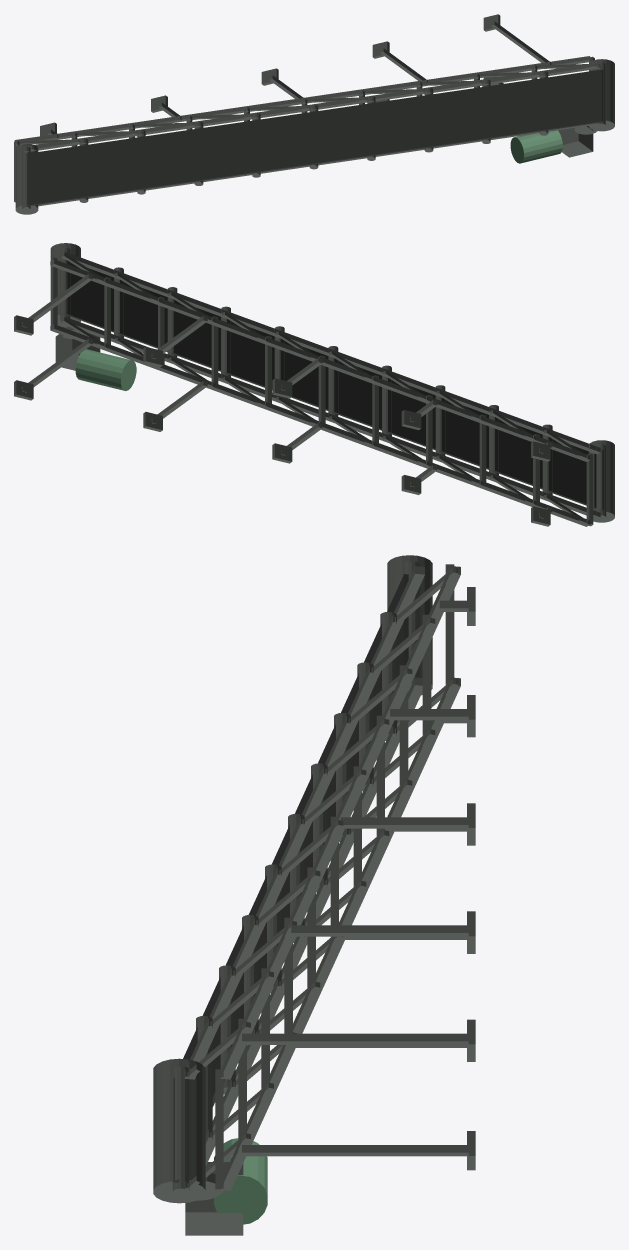
File: conveyor.glb
The picture shows the model from 3 angles, top to bottom: view 1: azimuth 30°, elevation 25°; view 2: azimuth 150°, elevation 25°; view 3: azimuth 270°, elevation 25°; orthographic projection. The views are drawn at different scales.
Visible parts, largest first — view 1: conveyor_belt, side_top_0.72, side_bottom_0.72, motor_body, side_top_-0.72, drive_drum, reducer, tail_drum, leg_4_0.72, carrier_roller_0, leg_3_0.72; view 2: conveyor_belt, side_bottom_0.72, side_bottom_-0.72, side_top_0.72, side_top_-0.72, motor_body, tail_drum, carrier_roller_0, reducer, drive_drum, leg_4_-0.72, leg_4_0.72 (+16 smaller); view 3: side_bottom_0.72, side_bottom_-0.72, side_top_0.72, conveyor_belt, drive_drum, side_top_-0.72, leg_4_-0.72, leg_4_0.72, motor_body, carrier_roller_10, leg_3_0.72, reducer (+5 smaller).
Boxes of the visible parts, x1,y1,x2,y2 form: conveyor_belt: (27,69,603,206); side_top_0.72: (24,62,600,152); side_bottom_0.72: (14,56,591,145); motor_body: (510,130,562,163); side_top_-0.72: (25,123,600,208); drive_drum: (589,59,614,131); reducer: (558,126,593,157); tail_drum: (15,144,38,214); leg_4_0.72: (490,21,551,64); carrier_roller_0: (22,146,30,211); leg_3_0.72: (380,48,427,81); conveyor_belt: (66,260,603,511); side_bottom_0.72: (50,259,590,461); side_bottom_-0.72: (50,324,590,526); side_top_0.72: (61,252,600,454); side_top_-0.72: (61,316,600,519); motor_body: (75,349,136,390); tail_drum: (588,440,614,522); carrier_roller_0: (596,444,606,519); reducer: (55,327,100,370); drive_drum: (50,243,80,327); leg_4_-0.72: (22,338,92,392); leg_4_0.72: (22,274,92,327); side_bottom_0.72: (220,566,460,1079); side_bottom_-0.72: (220,677,460,1190); side_top_0.72: (184,566,424,1079); conveyor_belt: (173,574,408,1182); drive_drum: (153,1058,205,1203); side_top_-0.72: (184,677,422,1190); leg_4_-0.72: (242,1145,468,1156); leg_4_0.72: (242,1033,468,1044); motor_body: (214,1138,267,1224); carrier_roller_10: (172,1066,189,1195); leg_3_0.72: (291,925,468,936); reducer: (185,1162,243,1235).
Size of the model in its own units: 14.58 by 2.48 by 3.78.
